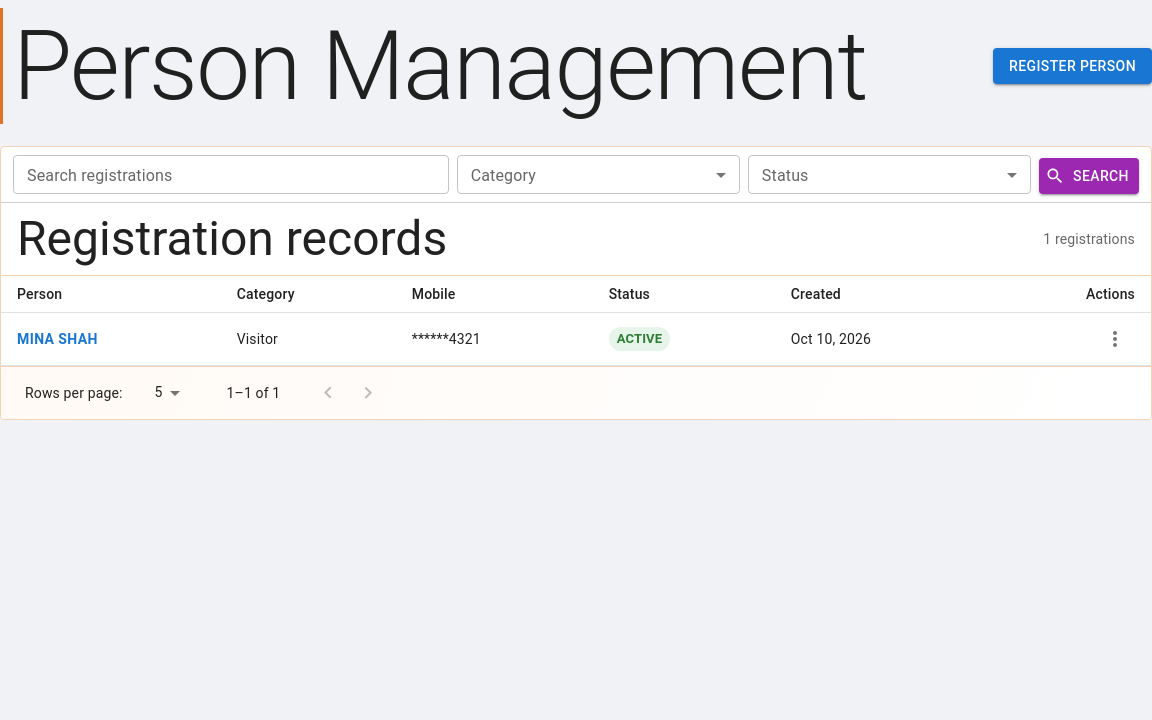
Scenario: deletes a person from the Actions column after confirmation
Expected: the link "Mina Shah" is shown, x1=17 y1=327 x2=98 y2=351
Step 1. Click the button named "Actions for Mina Shah" → [1115, 339], box x1=1095 y1=319 x2=1135 y2=359
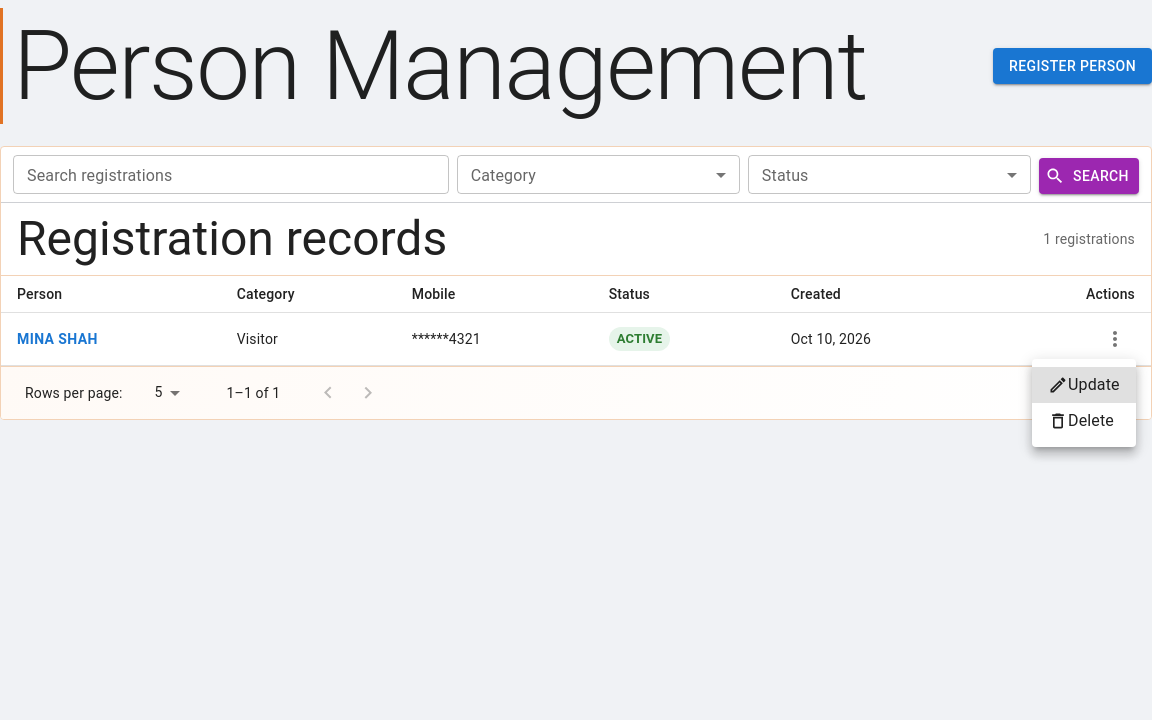
Result: the menu item "Update" is shown at x1=1032 y1=367 x2=1136 y2=403
Result: the number of menu items is 2
Step 2. Click the menu item "Delete" → [1081, 421], box x1=1048 y1=411 x2=1114 y2=431
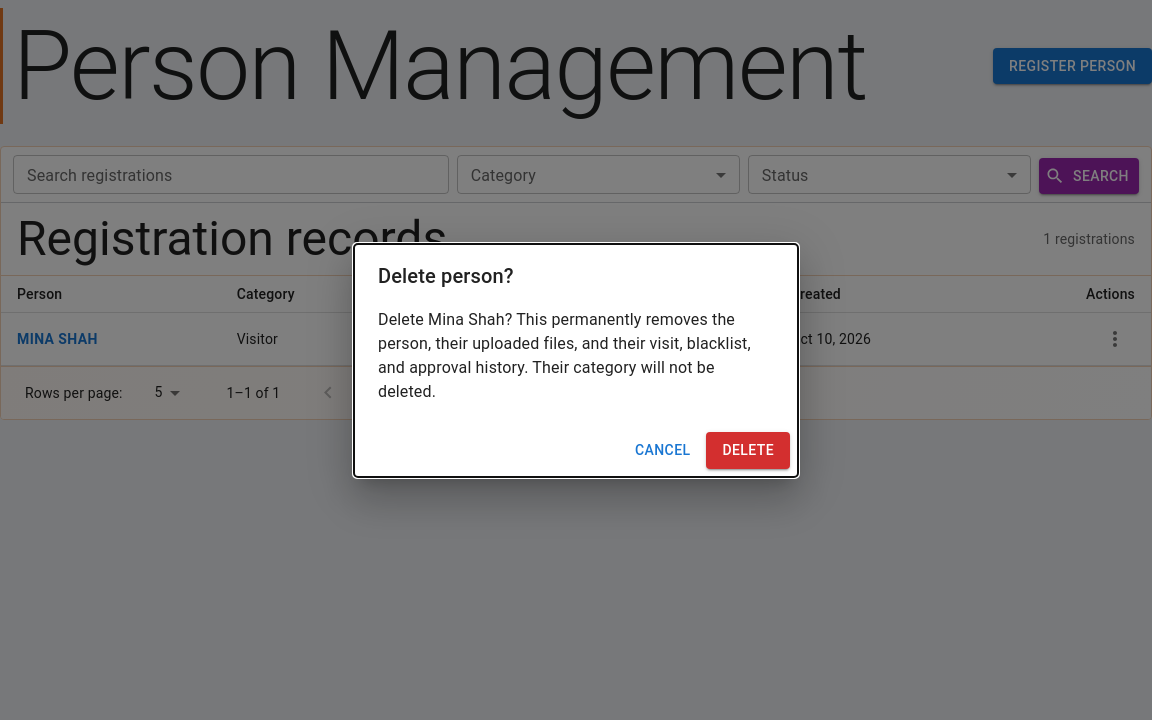
Result: the dialog shows "permanently removes the person" at x1=378 y1=310 x2=751 y2=401
Result: the dialog shows "visit, blacklist, and approval history" at x1=378 y1=310 x2=751 y2=401
Result: the dialog shows "Their category will not be deleted" at x1=378 y1=310 x2=751 y2=401
Step 3. Click the button "Delete" → [748, 450], box x1=706 y1=432 x2=790 y2=468
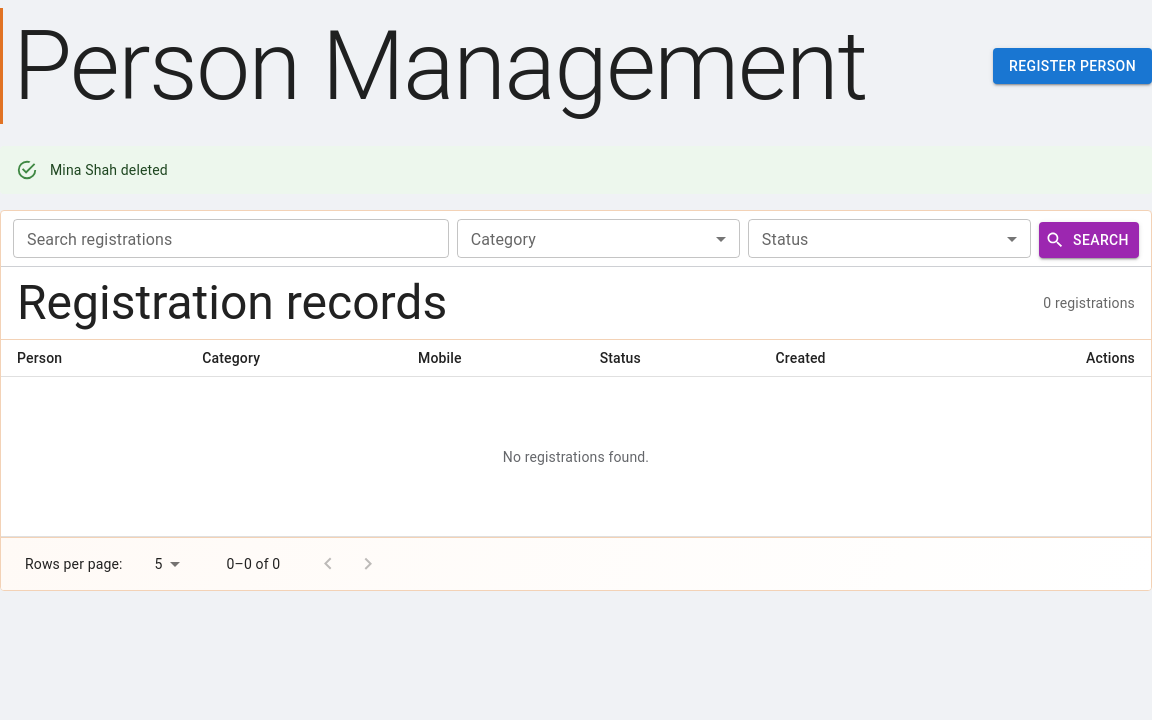
Result: the text "Mina Shah deleted" is shown at x1=50 y1=162 x2=168 y2=178
Result: the text "No registrations found." is shown at x1=1 y1=377 x2=1151 y2=537
